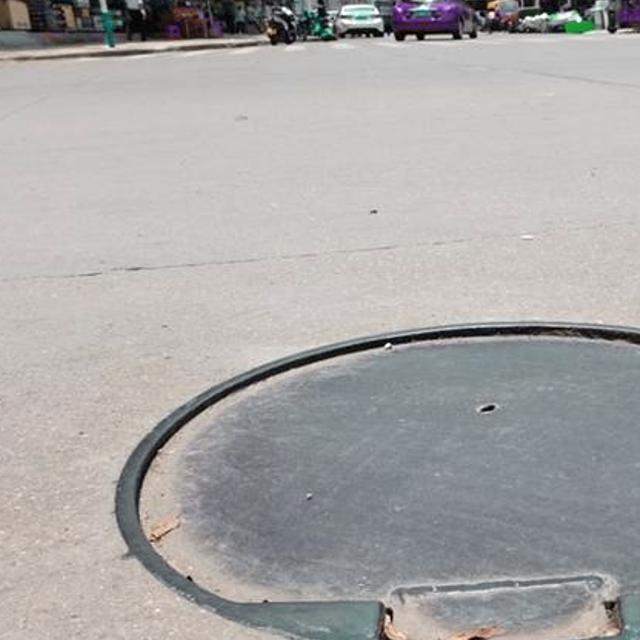good: (80, 296, 640, 640)
